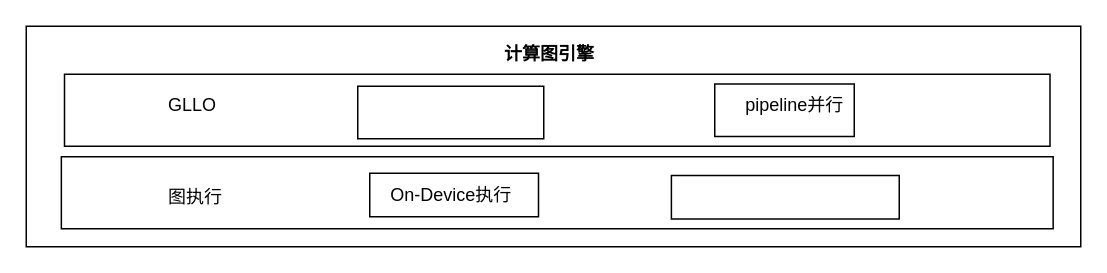
This 1107x273 diagram has some shape labels left out. Each missing label, with the box of its shape:
LLO: (356, 85, 544, 139)
分布式库（通信/PS）: (670, 174, 899, 219)
